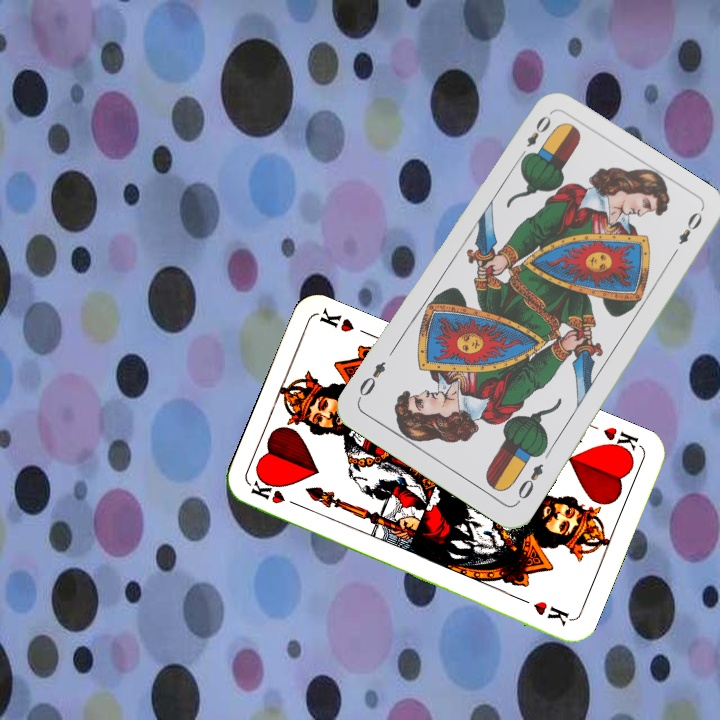EO: (515, 111, 554, 163), (513, 459, 546, 506)
HK: (247, 476, 304, 510), (598, 422, 642, 460)
